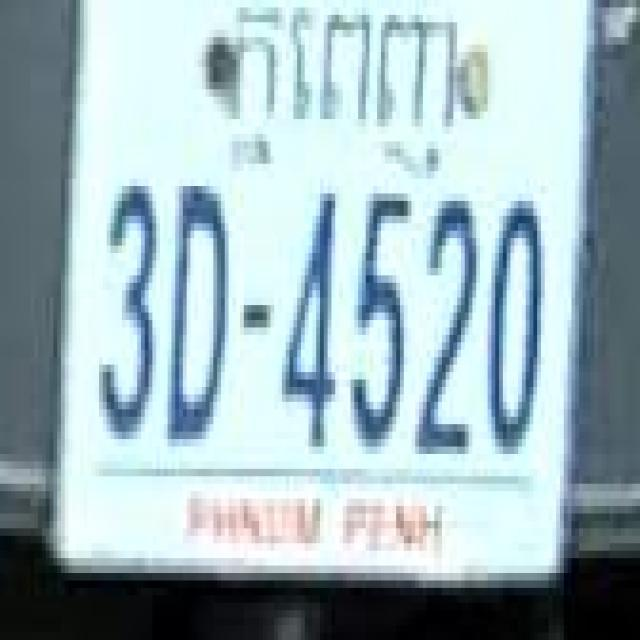Phnom_Penh: (229, 7, 461, 178)
